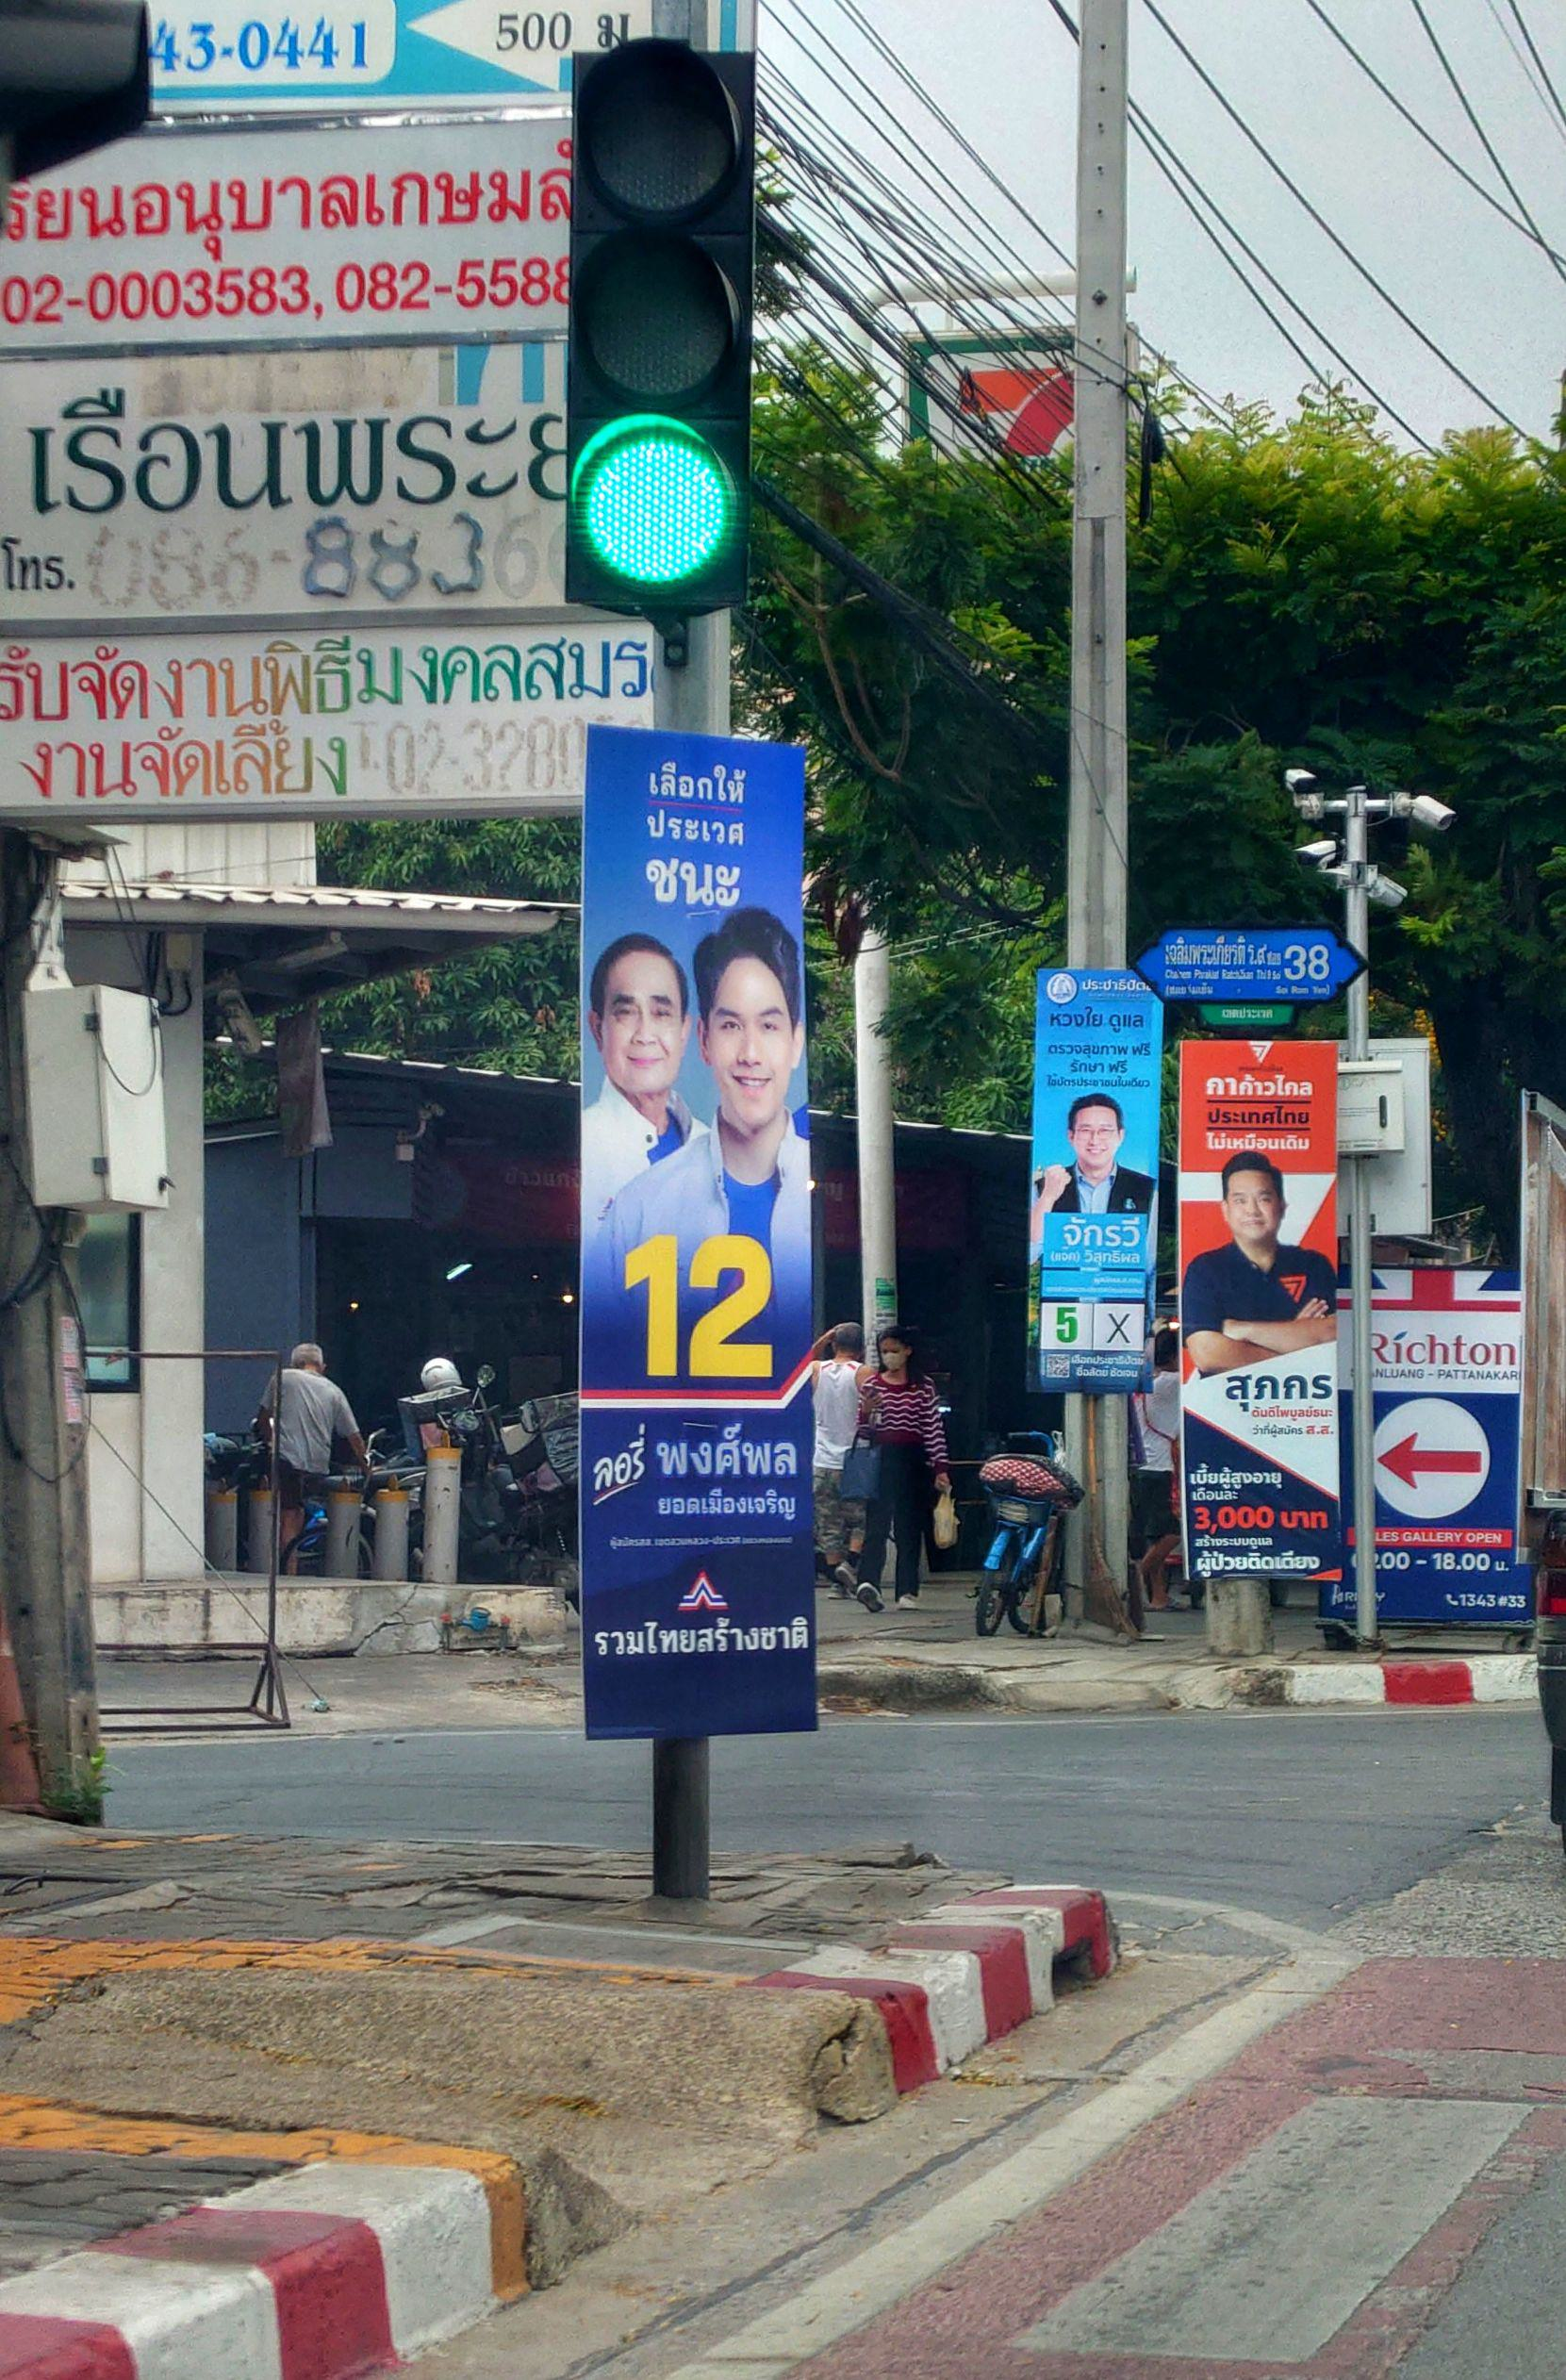Banner: (570, 718, 823, 1744), (1166, 1031, 1349, 1609), (1021, 954, 1159, 1393)
